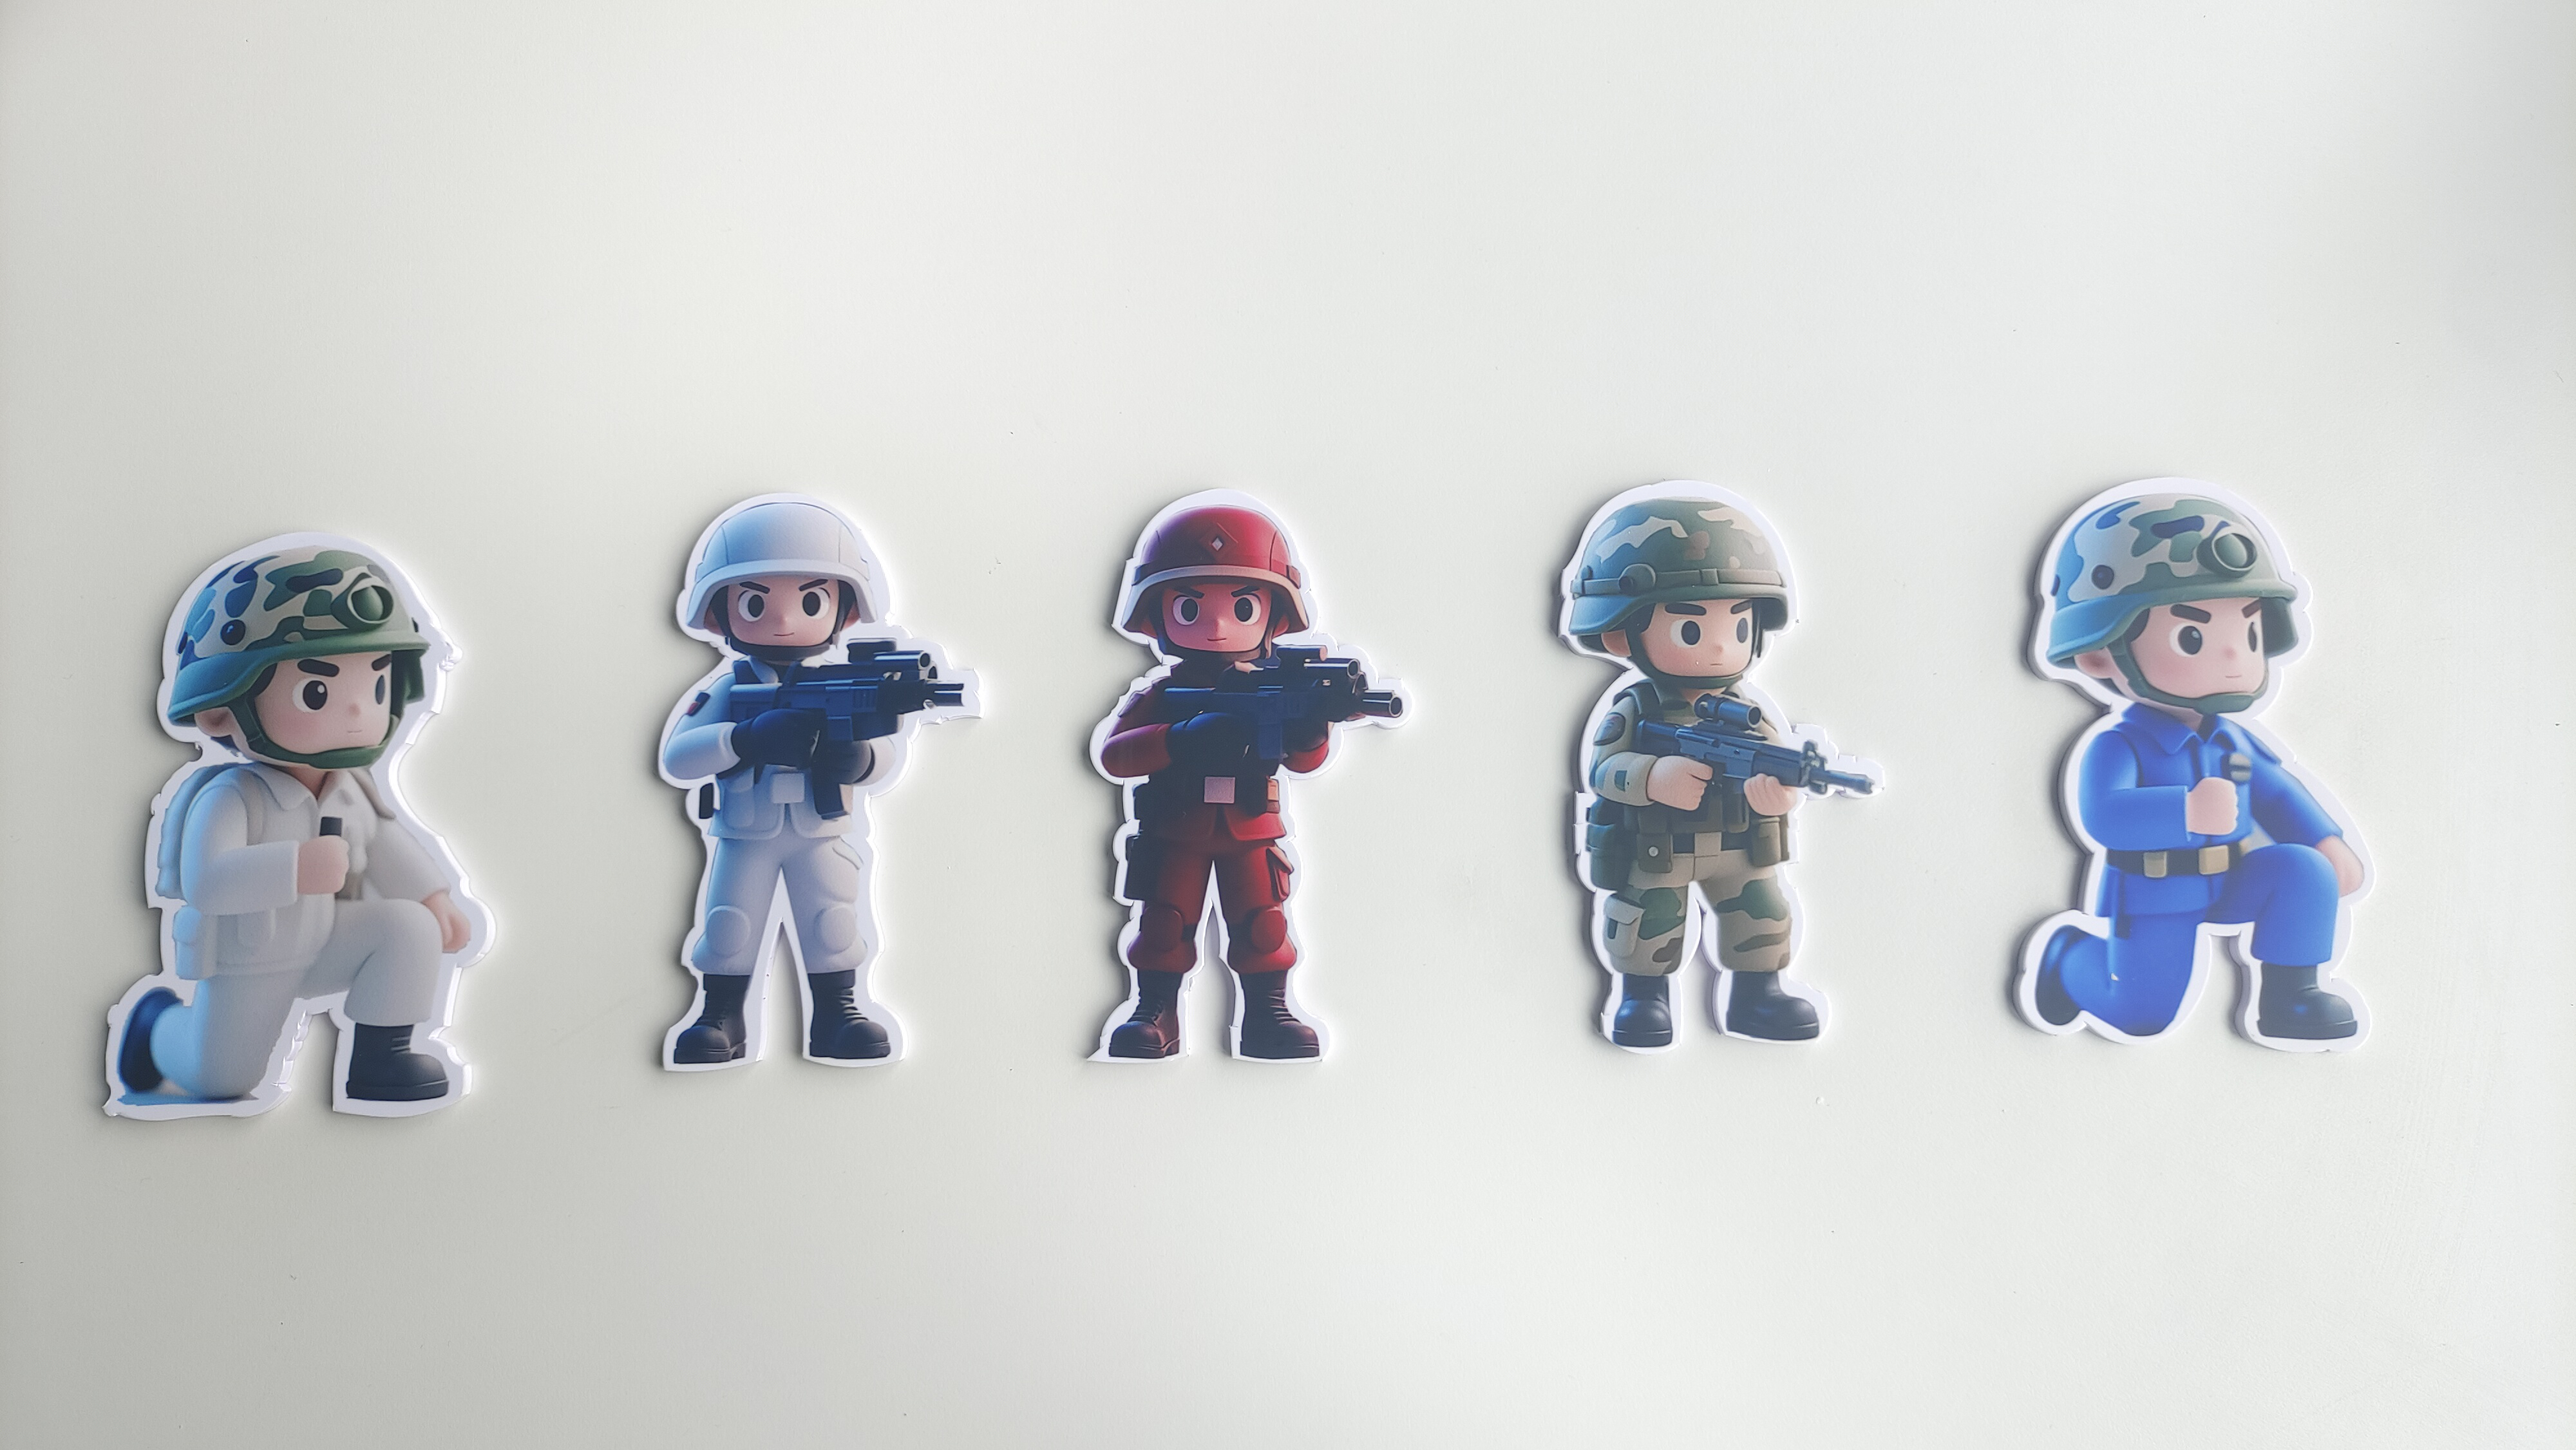enemy1: (1067, 663, 1341, 1073)
enemy2: (1997, 716, 2397, 1073)
friend: (1557, 677, 1847, 1061)
hostage: (96, 771, 494, 1130), (630, 658, 934, 1084)
